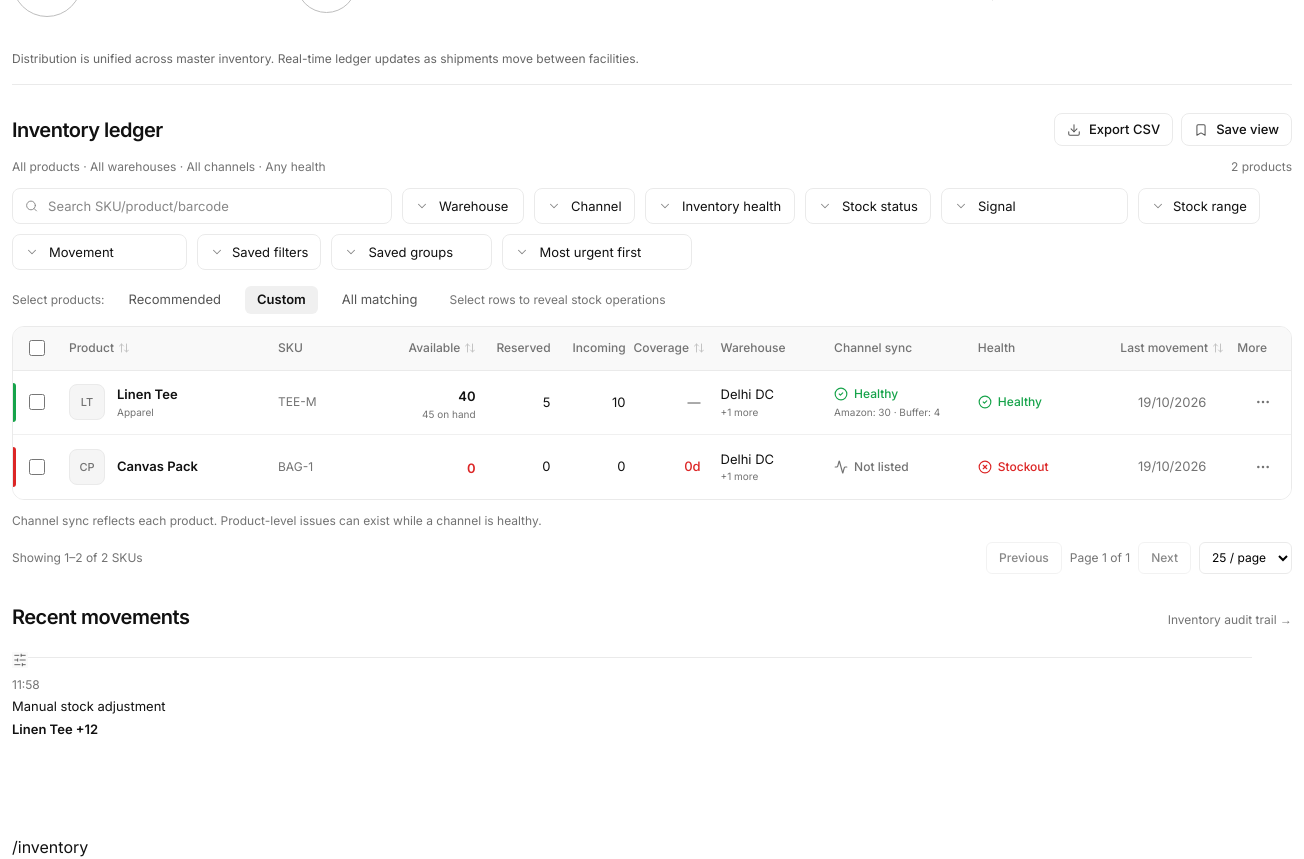
InventoryPage design sections, all from the server › shows the recent movements timeline and opens the full audit trail on demand
(page scrolled)
Expected: the text "Manual stock adjustment" is shown, x1=12 y1=698 x2=166 y2=716
Expected: the text "Linen Tee +12" is shown, x1=12 y1=720 x2=98 y2=739
Step 1. Click the button "Inventory audit trail →" → click(1230, 620), box x1=1168 y1=611 x2=1292 y2=629
(page scrolled)
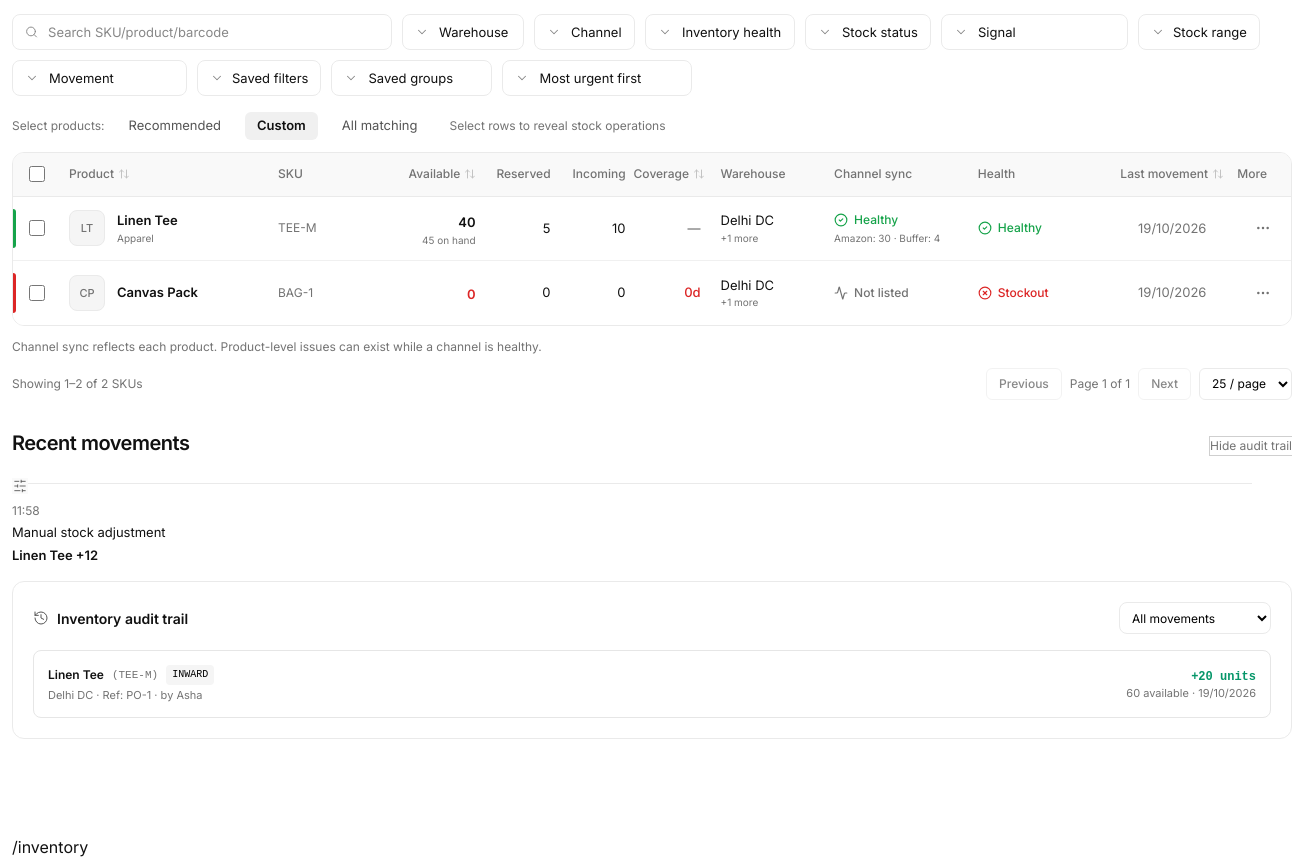
Result: the text "Delhi DC · Ref: PO-1 · by Asha" is shown at x1=48 y1=687 x2=214 y2=703
